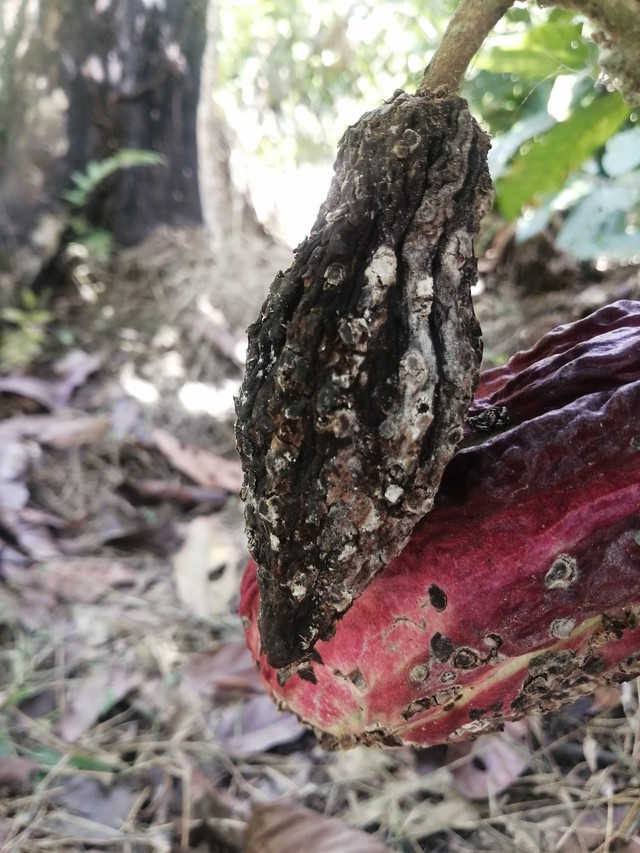moniliophthora roreri: (205, 277, 640, 759), (208, 74, 511, 681)
